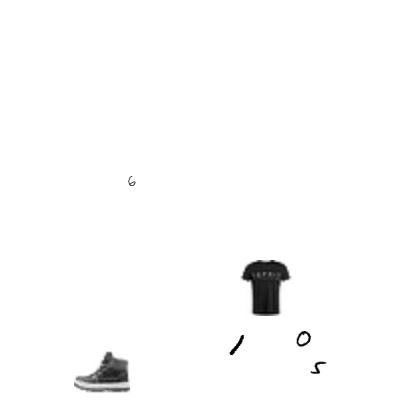0: (292, 327, 314, 349)
1: (223, 331, 251, 359)
5: (306, 356, 328, 378)
6: (124, 175, 138, 189)
Ankle_boot: (74, 344, 130, 400)
T-shirt/top: (237, 260, 293, 316)
